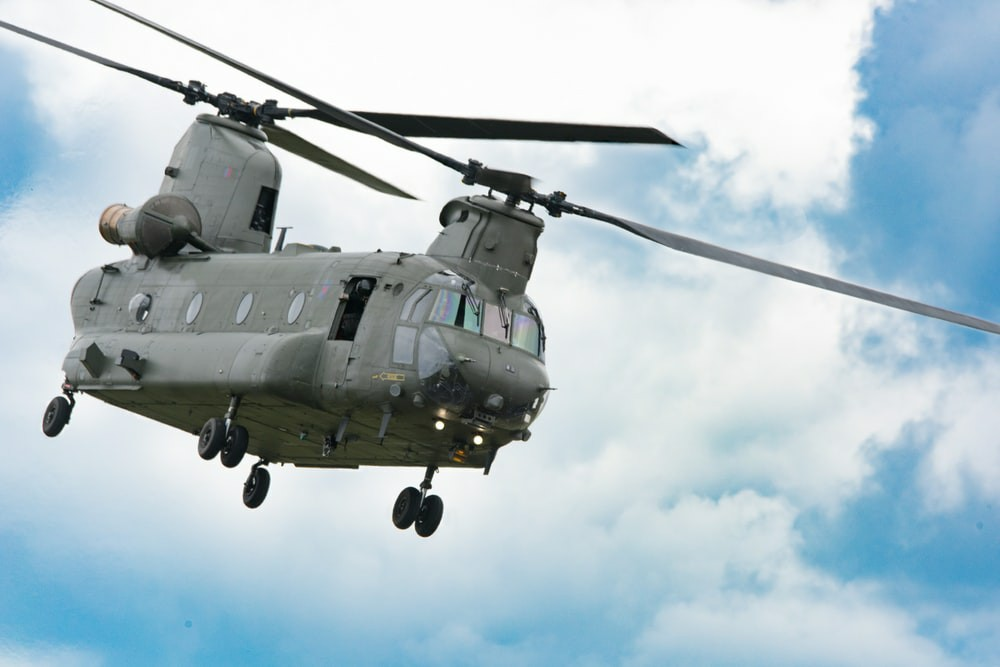chinook: (23, 66, 557, 535)
